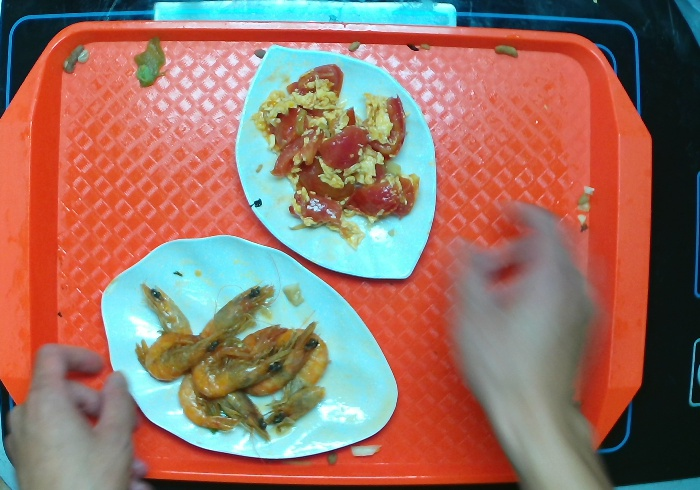RJxy-Bai_Ye_Pan: (100, 231, 401, 461)
RJxy-Da_Du_Pan: (233, 43, 440, 285)
